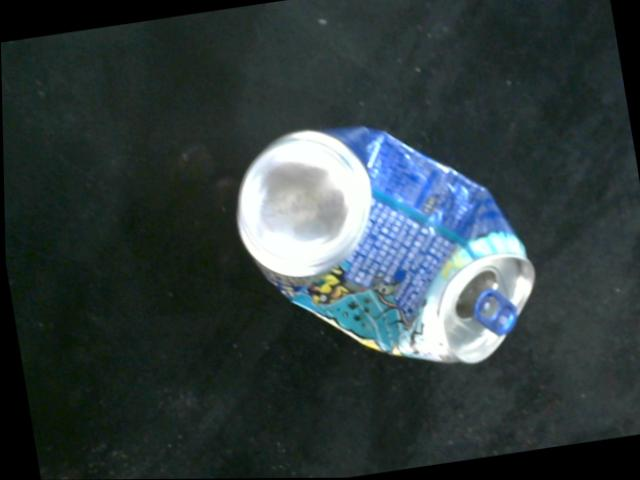can: (229, 128, 538, 364)
